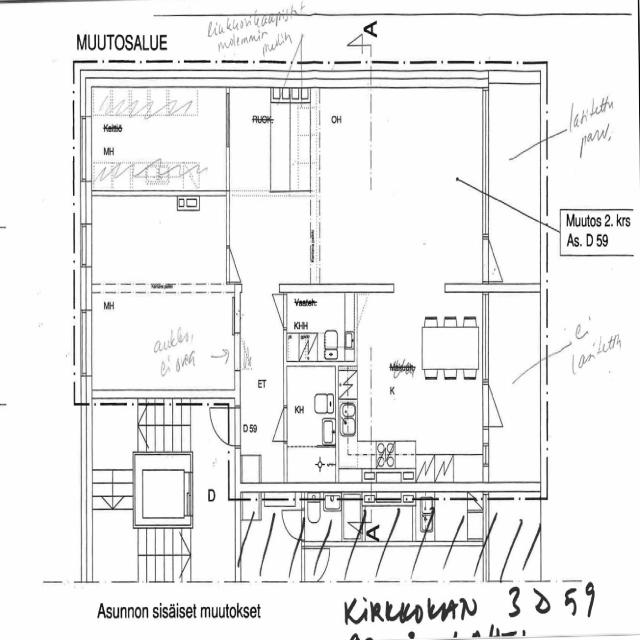door: (482, 384, 516, 427), (483, 239, 517, 281), (209, 408, 240, 446), (226, 248, 252, 282), (261, 408, 287, 442), (261, 295, 287, 328)
